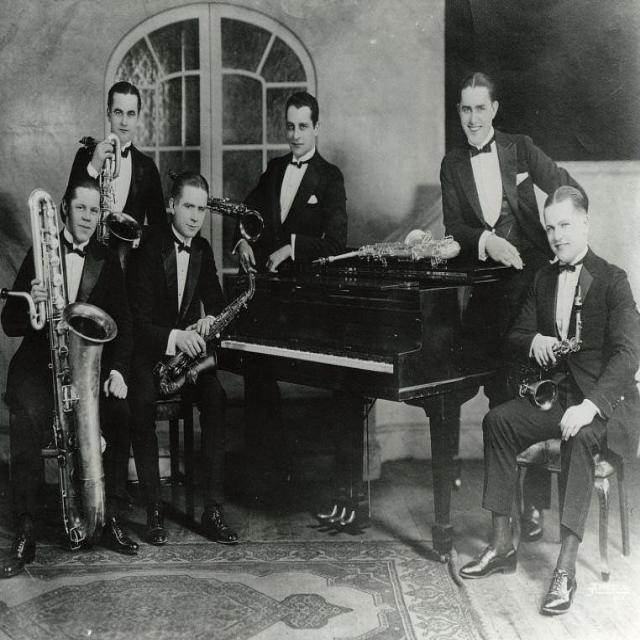saxophone: (0, 180, 125, 557), (149, 242, 258, 402), (508, 288, 591, 416), (79, 131, 144, 272), (169, 165, 272, 239), (310, 228, 475, 272)
